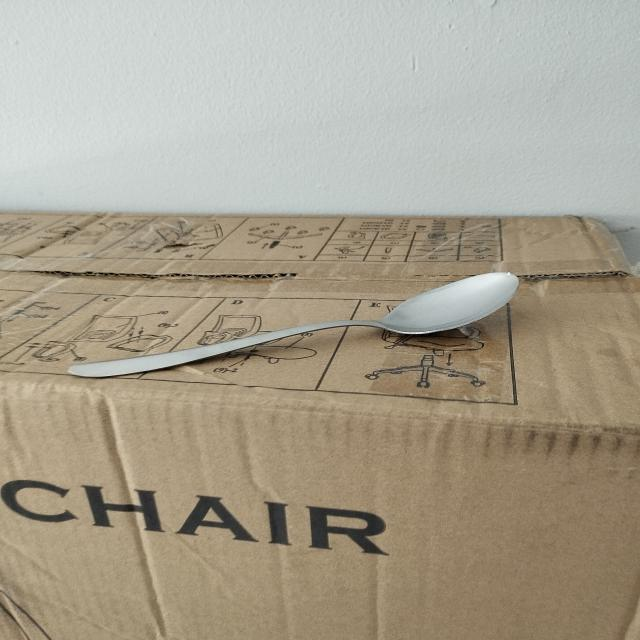Spoon: (42, 255, 542, 393)
